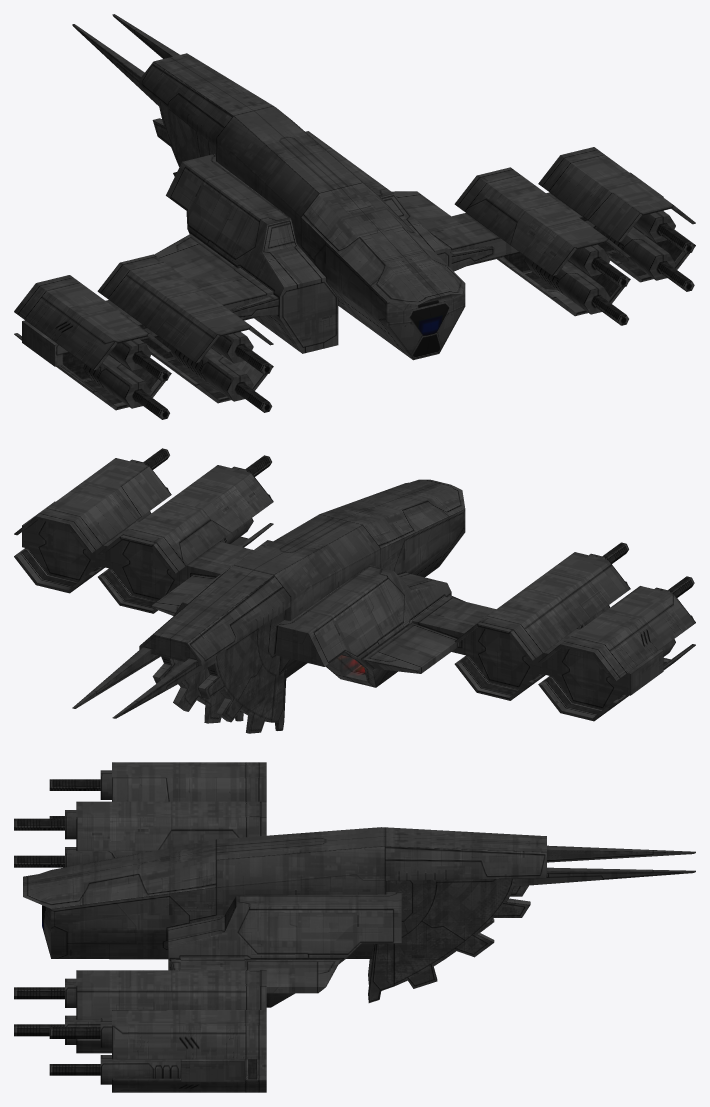
The model's file is vendetta.obj.
3 renders of one model, top to bottom at view 1: azimuth 30°, elevation 25°; view 2: azimuth 150°, elevation 25°; view 3: azimuth 270°, elevation 25°, orthographic. The views are drawn at different scales.
Bounding box in the file's own units: 80.27 × 20.41 × 80.43.
Materials: 1 (1 with a texture image).
